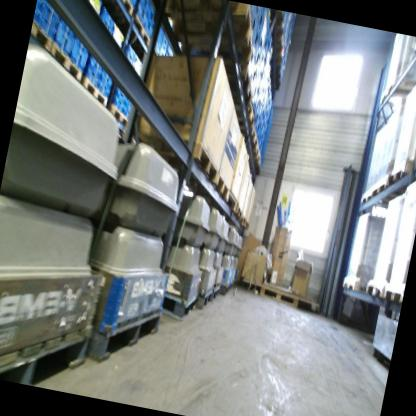pallet: (0, 306, 95, 394), (155, 0, 261, 66), (85, 291, 165, 376), (129, 129, 222, 188), (208, 61, 257, 107), (47, 40, 90, 84), (160, 282, 202, 326), (27, 17, 60, 60), (101, 99, 135, 134), (377, 80, 415, 111), (255, 284, 299, 310), (127, 8, 157, 46), (77, 75, 112, 107), (227, 99, 259, 132), (369, 180, 409, 206), (385, 163, 416, 195), (359, 192, 398, 215), (106, 0, 137, 23), (241, 128, 261, 154), (270, 30, 287, 60), (362, 279, 385, 301), (340, 276, 364, 297), (266, 10, 286, 33), (196, 287, 214, 312), (245, 145, 262, 171), (382, 285, 404, 304), (204, 283, 222, 306), (251, 153, 264, 175), (218, 275, 231, 297), (231, 201, 244, 221), (242, 219, 251, 232)
small_load_carrier: (86, 4, 116, 73), (252, 7, 266, 149), (52, 21, 79, 58), (69, 37, 91, 71), (33, 11, 57, 39), (39, 2, 61, 27), (243, 5, 259, 34), (132, 1, 148, 28), (245, 65, 258, 97), (85, 59, 103, 81), (81, 0, 104, 16), (244, 53, 257, 81), (82, 70, 100, 88), (96, 70, 112, 89), (247, 26, 259, 51), (108, 96, 125, 113), (122, 43, 137, 62), (95, 81, 110, 99), (255, 47, 267, 69), (251, 45, 262, 67), (147, 2, 159, 22), (113, 89, 126, 106), (143, 17, 154, 37), (161, 33, 171, 50), (263, 34, 271, 53), (138, 0, 150, 12), (120, 108, 130, 119), (157, 48, 167, 59), (123, 0, 138, 7), (123, 95, 130, 110)
